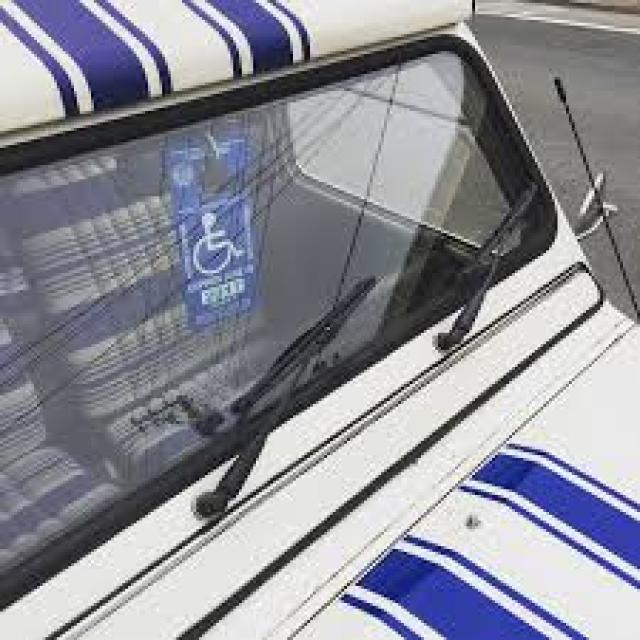car-handicap-placard: (189, 211, 254, 281)
